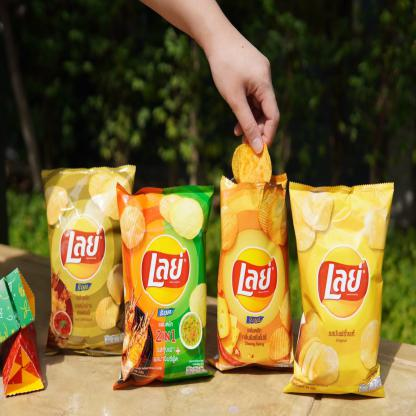potatochip: (282, 176, 399, 400), (108, 180, 220, 396), (36, 159, 141, 363), (209, 174, 300, 376)
